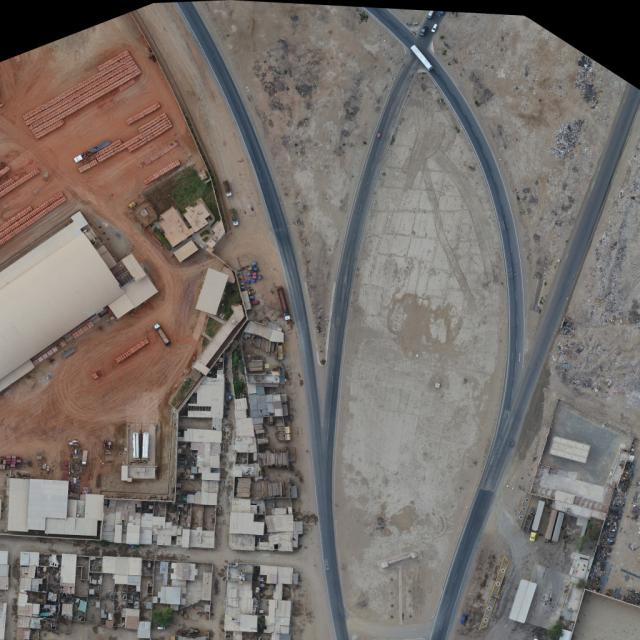building: (12, 551, 299, 640), (511, 400, 639, 558), (0, 475, 220, 552), (226, 334, 298, 522), (514, 522, 601, 636), (0, 211, 92, 294), (174, 369, 226, 503), (230, 476, 305, 552), (152, 205, 194, 248), (196, 267, 229, 316), (508, 578, 537, 624), (180, 198, 215, 234), (0, 359, 36, 392), (123, 275, 158, 308), (130, 198, 160, 229), (120, 252, 148, 283), (108, 261, 136, 290), (108, 293, 136, 320), (172, 239, 199, 263), (32, 345, 60, 367), (530, 499, 546, 532), (71, 321, 96, 340)
dryland: (321, 69, 530, 632), (0, 15, 222, 498), (142, 158, 231, 247), (388, 8, 428, 34)
greenland: (166, 162, 220, 229)
metalled_road: (293, 46, 422, 490)
